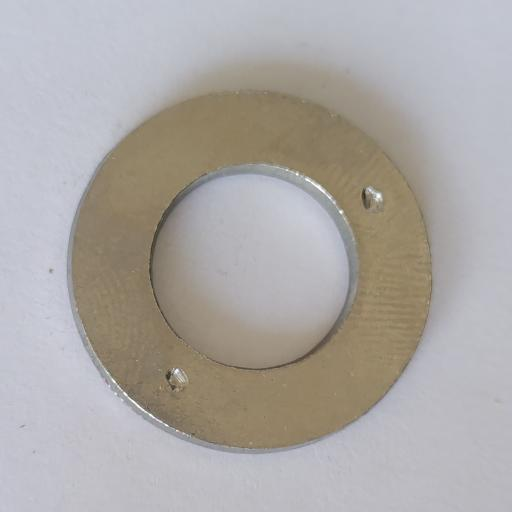circular_cavity: (359, 184, 385, 213), (164, 365, 190, 394)
